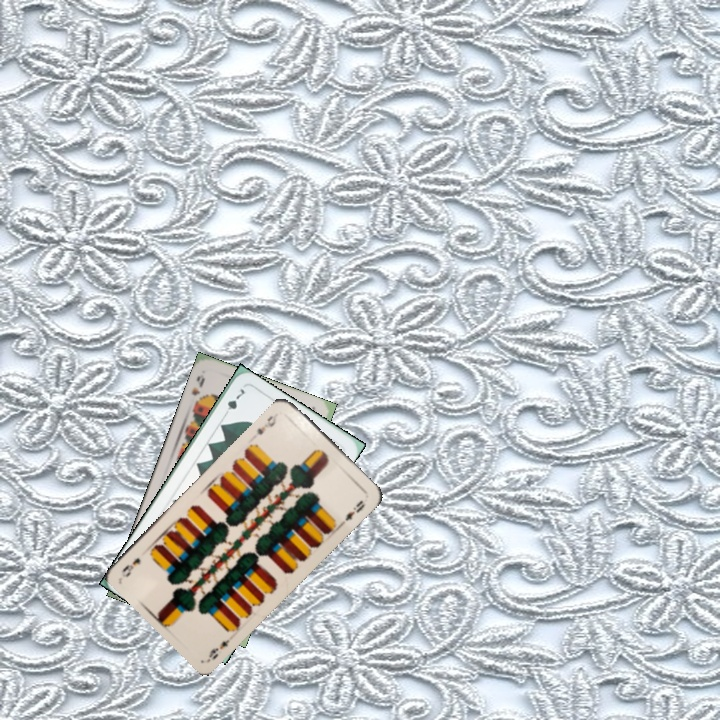E9: (253, 409, 281, 438), (204, 635, 232, 662)
G7: (219, 384, 247, 420)
S9: (188, 371, 207, 409)
